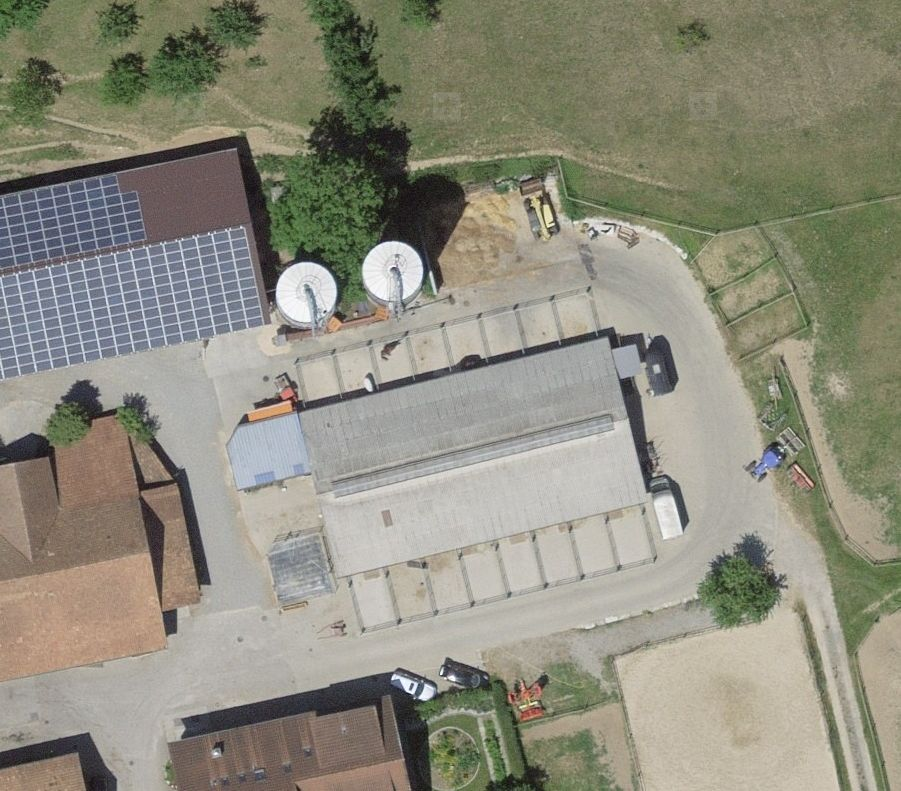solar: (1, 171, 266, 383)
